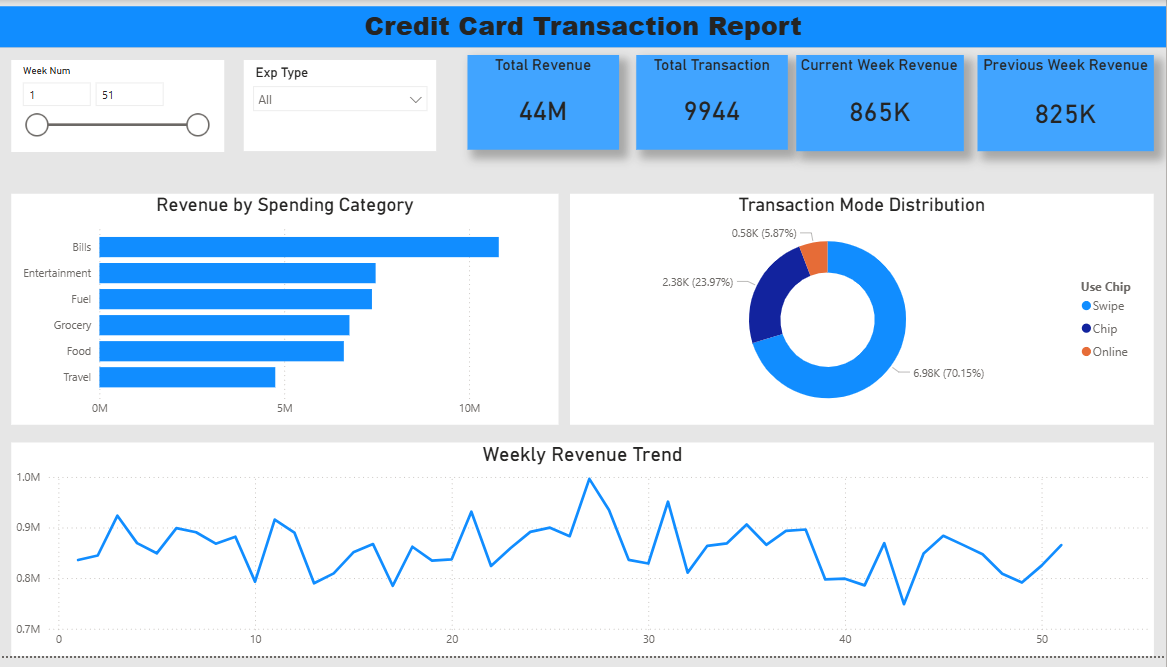

The page's visual inventory and layout, read from the dashboard file:
{"tool":"powerbi","page":{"name":"CreditCard Dashboard","canvas":[1280,720],"ordinal":1},"visuals":[{"type":"card","title":"Total Revenue","fields":{"Values":["CreditCard.Total Revenue"]},"box":[513.2,60.4,166,104.3],"z":0},{"type":"card","title":"Total Transaction","fields":{"Values":["CountNonNull(CreditCard.Total Transactions)"]},"box":[698.5,60.4,166,104.3],"z":1000},{"type":"card","title":"Current Week Revenue","fields":{"Values":["CreditCard.Current Week Revenue"]},"box":[874.1,60.4,183.9,105.7],"z":2000},{"type":"card","title":"Previous Week Revenue","fields":{"Values":["CreditCard.Previous Week Revenue"]},"box":[1073.1,60.4,193.5,105.7],"z":3000},{"type":"slicer","fields":{"Values":["CreditCard.Week Num"]},"box":[12.3,65.9,233.3,100.2],"z":4000},{"type":"lineChart","title":"Weekly Revenue Trend","fields":{"Category":["CreditCard.Week Num"],"Y":["CreditCard.Total Revenue"]},"box":[12.3,485.8,1254.2,234.6],"z":5000},{"type":"clusteredBarChart","title":"Revenue by Spending Category","fields":{"Category":["CreditCard.Exp Type"],"Y":["CreditCard.Total Revenue"]},"box":[12.3,212.7,601,253.9],"z":6000},{"type":"donutChart","title":"Transaction Mode Distribution","fields":{"Y":["CountNonNull(CreditCard.Total Transactions)"],"Category":["CreditCard.Use Chip"]},"box":[625.7,212.7,640.8,253.9],"z":7000},{"type":"slicer","fields":{"Values":["CreditCard.Exp Type"]},"box":[267.6,65.9,211.3,100.2],"z":8000},{"type":"shape","title":"Credit Card Transaction Report","box":[0,6.9,1280.3,45.3],"z":9000}]}

Visuals, with their boxes in screenshot pixels (x1, y1, x2, y2), scaled from the page's 1280x720 canvas onto the 1167x667 screenshot:
"Total Revenue" card: x1=468 y1=56 x2=619 y2=153
"Total Transaction" card: x1=637 y1=56 x2=788 y2=153
"Current Week Revenue" card: x1=797 y1=56 x2=965 y2=154
"Previous Week Revenue" card: x1=978 y1=56 x2=1155 y2=154
slicer - CreditCard.Week Num: x1=11 y1=61 x2=224 y2=154
"Weekly Revenue Trend" lineChart: x1=11 y1=450 x2=1155 y2=666
"Revenue by Spending Category" clusteredBarChart: x1=11 y1=197 x2=559 y2=432
"Transaction Mode Distribution" donutChart: x1=570 y1=197 x2=1155 y2=432
slicer - CreditCard.Exp Type: x1=244 y1=61 x2=437 y2=154
"Credit Card Transaction Report" shape: x1=0 y1=6 x2=1166 y2=48
